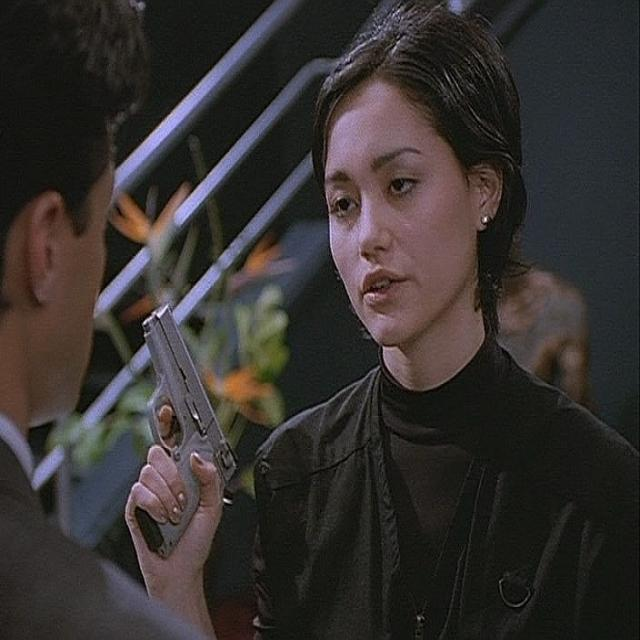gun-knife-thesis - v11 Yolov5 augmented: (119, 303, 248, 556)
